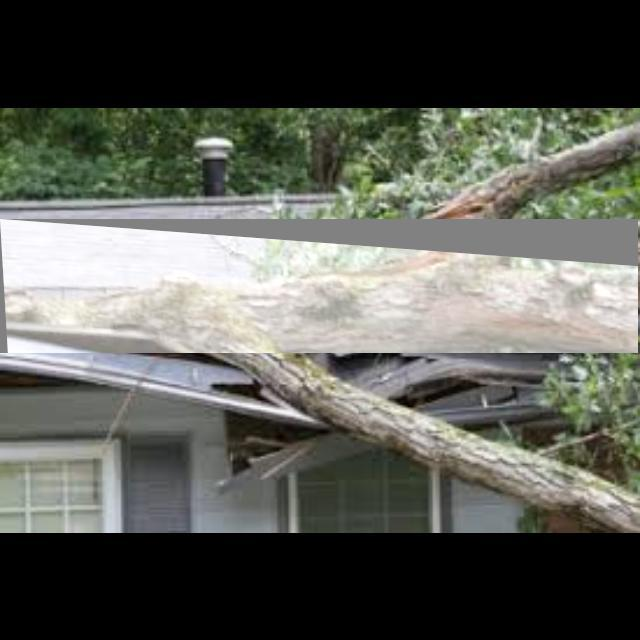fallen_tree: (0, 219, 639, 354)
